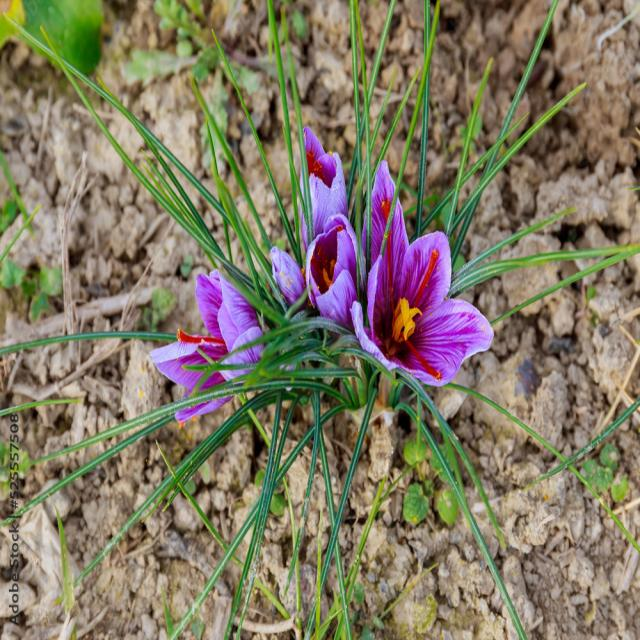saffron open: (351, 165, 492, 386), (151, 270, 262, 394), (306, 214, 358, 328), (304, 127, 348, 236), (176, 398, 229, 424), (200, 367, 249, 390)
